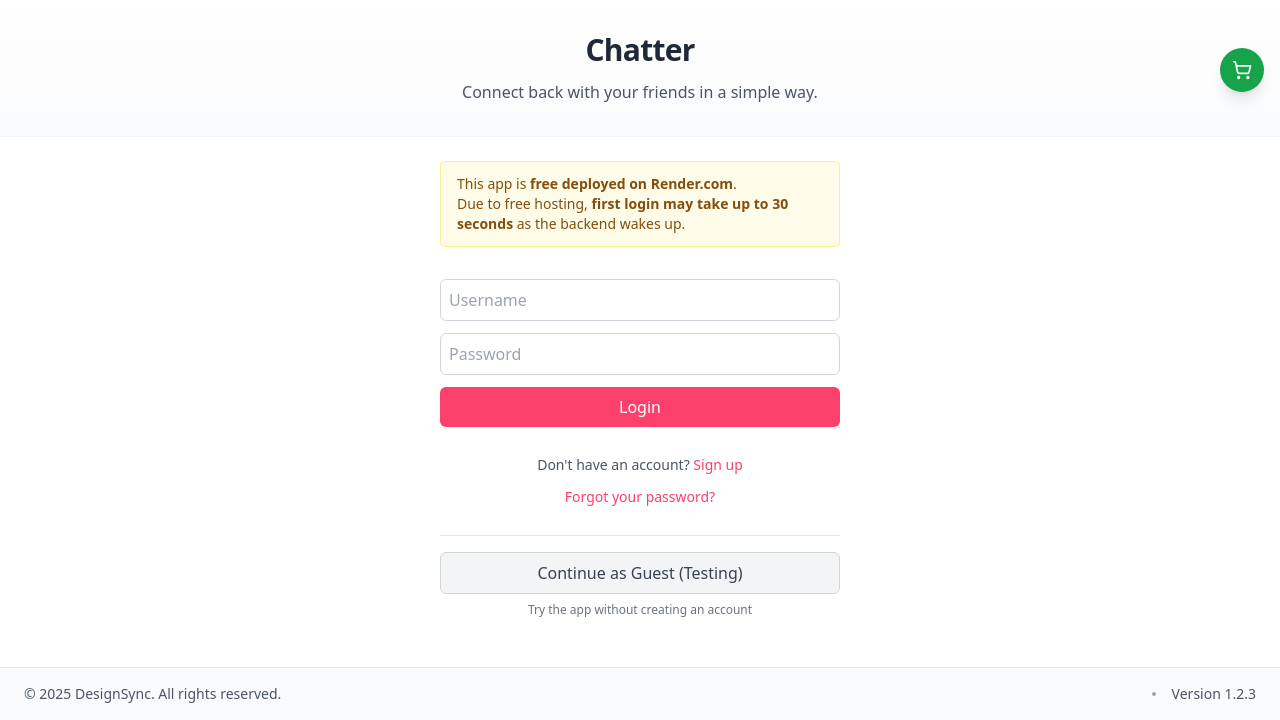
Buy Request Feature › should open overlay form when buy button is clicked
The image size is (1280, 720).
// Click the floating button
Click the button with test id "floating-buy-button" at x=1242, y=70, box [1220,48,1264,92]
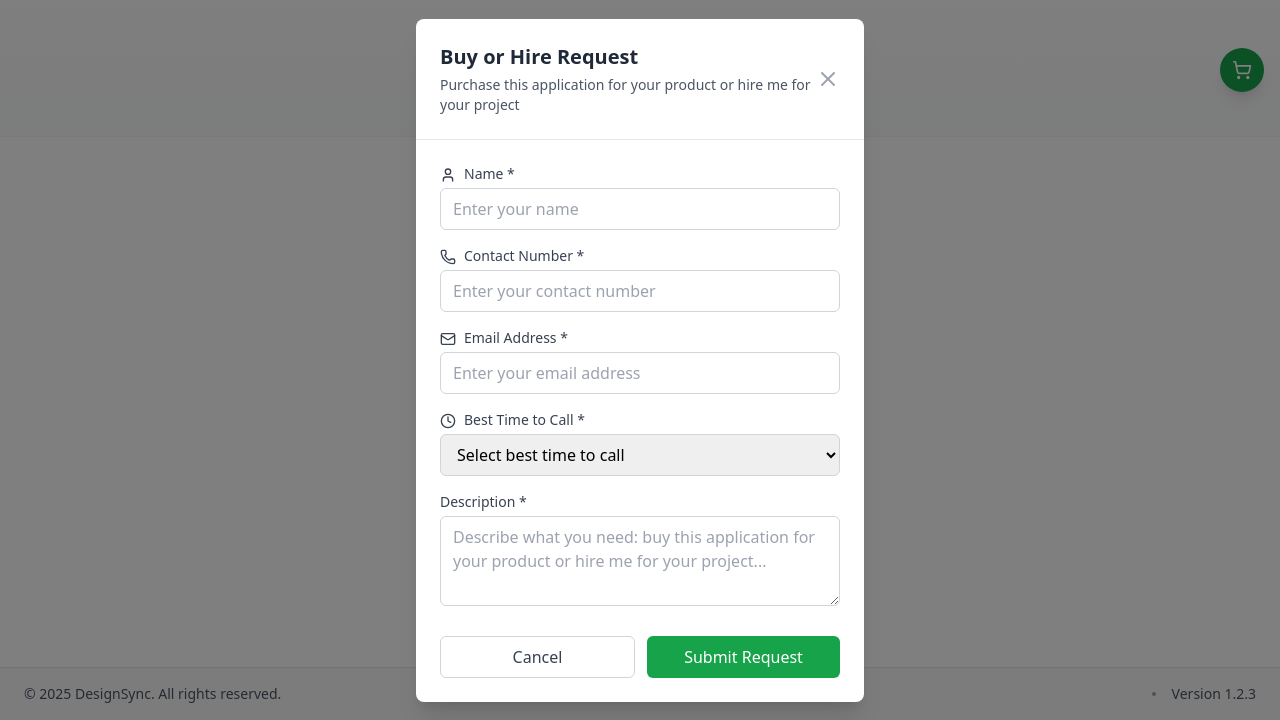
Expected: the element with test id "buy-form-overlay" is shown
Expected: the field with test id "buy-form-name" is shown, [440,188,840,230]
Expected: the field with test id "buy-form-contact" is shown, [440,270,840,312]
